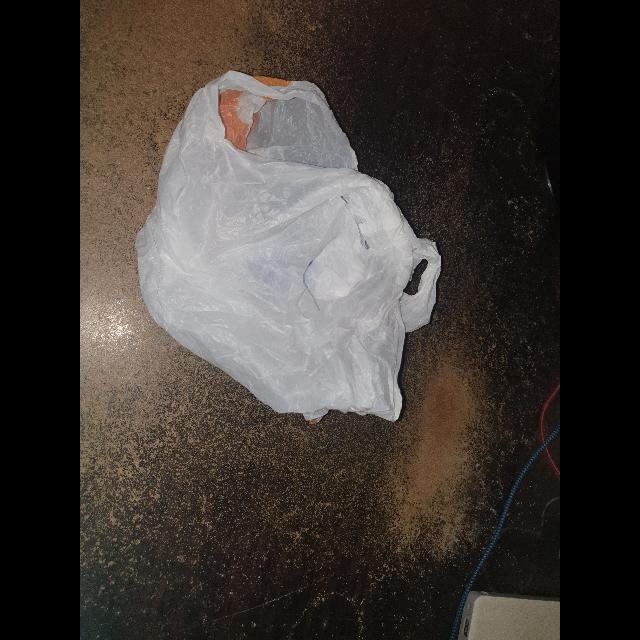plastic_bag: (120, 55, 463, 438)
